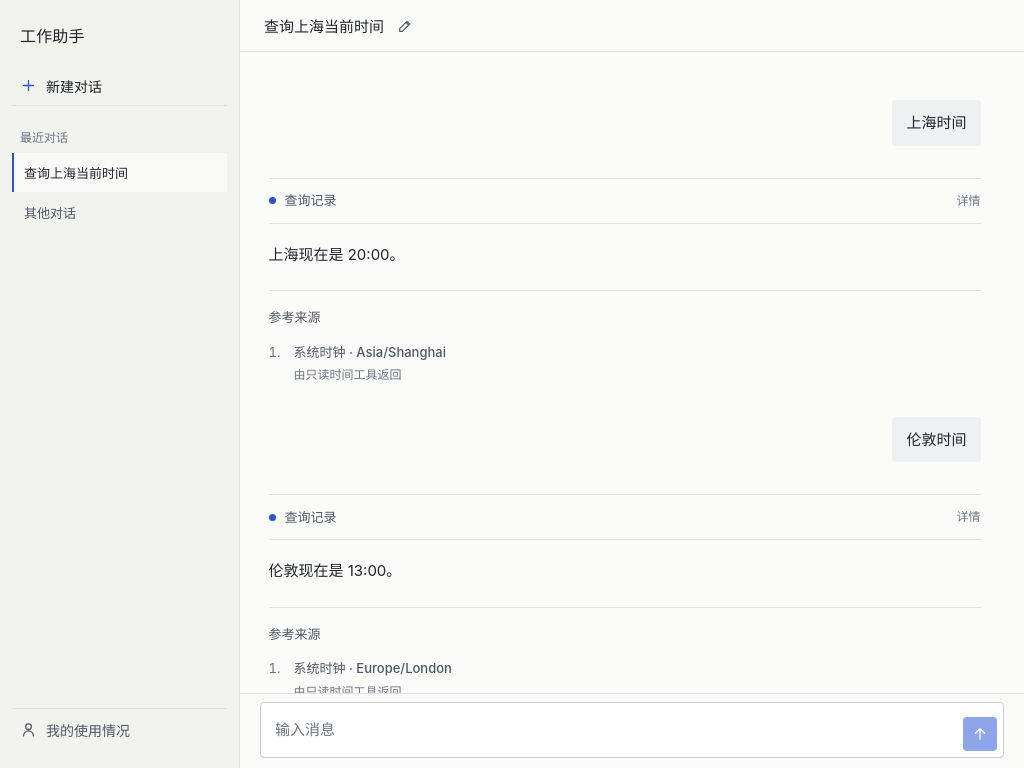
employee chat vertical slice › rebuilds every historical run with its own tool, source and terminal state
Expected: the text "系统时钟 · Asia/Shanghai" is shown, 294,344 -> 446,360
Expected: the text "上海现在是 20:00。" is shown, 268,244 -> 405,264
Click the button "其他对话". click: (120, 212)
box: 12,193 -> 227,232
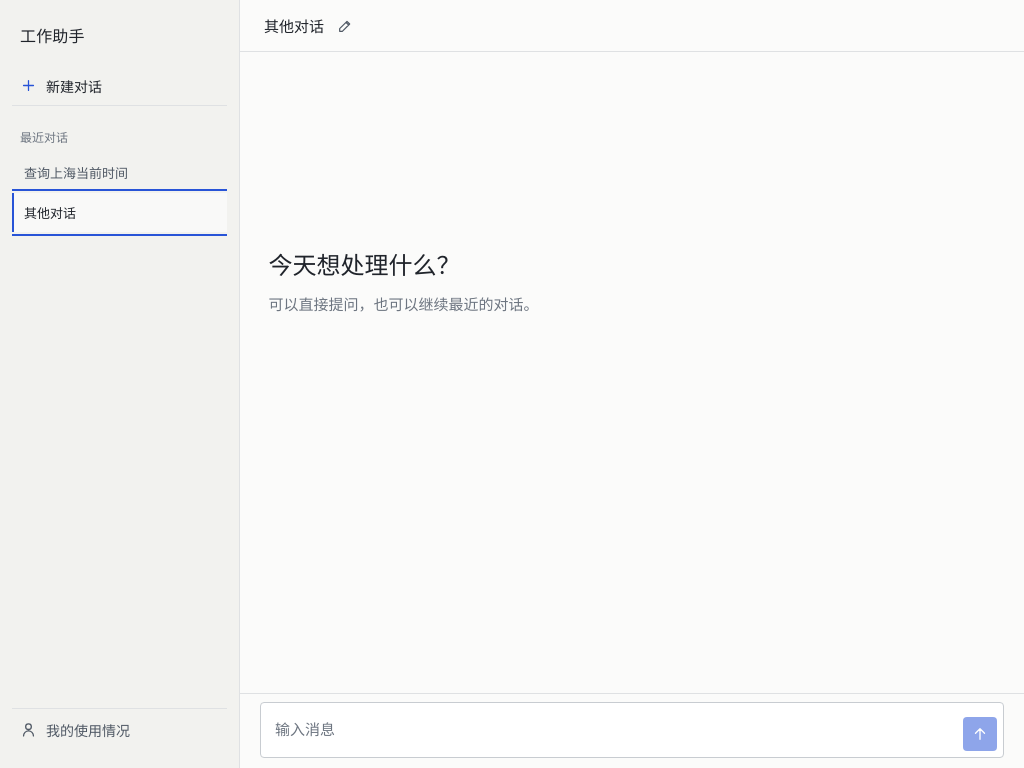
Expected: the heading "今天想处理什么？" is shown, 268,250 -> 460,282
Click the button "查询上海当前时间". click: (120, 172)
box: 12,153 -> 227,192
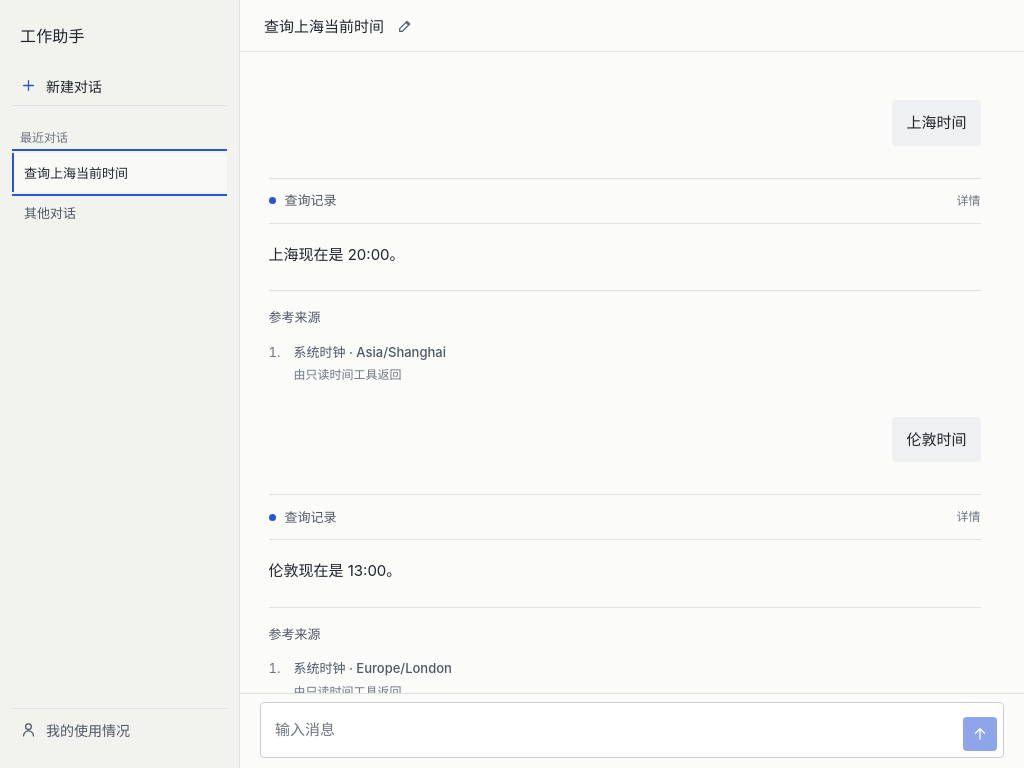
Expected: the text "伦敦现在是 13:00。" is shown, 268,561 -> 401,580
